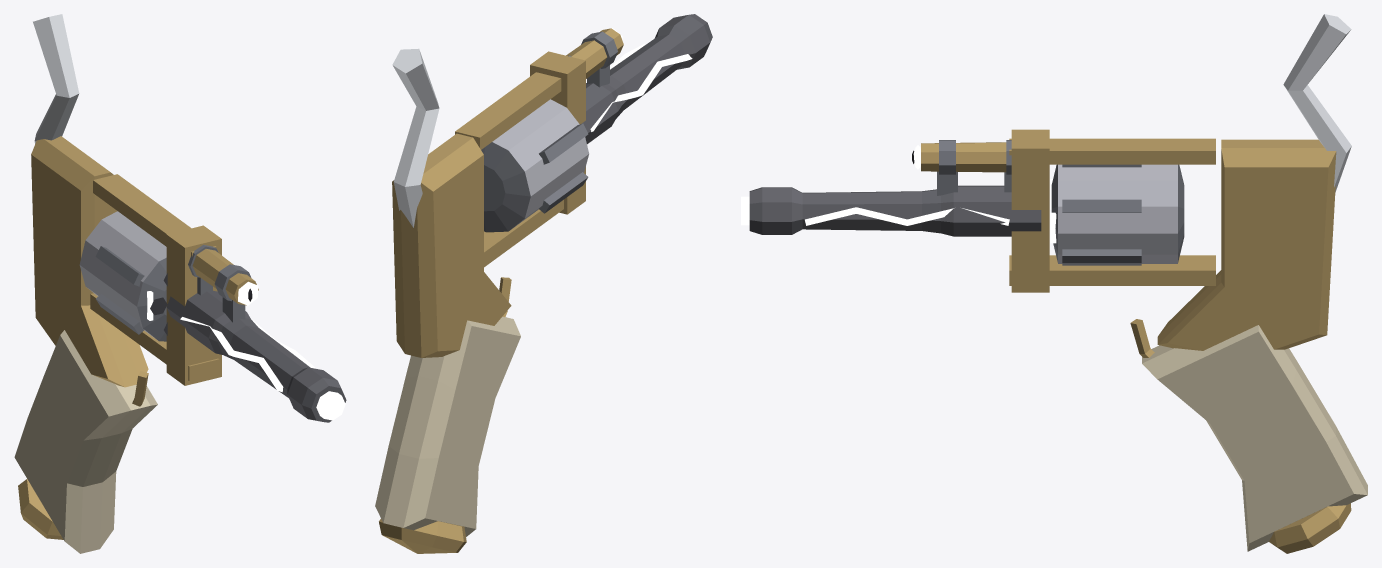
File: gun-fanning-gun.glb
3 renders of one model, left to right at view 1: azimuth 30°, elevation 25°; view 2: azimuth 150°, elevation 25°; view 3: azimuth 270°, elevation 25°, orthographic. The views are drawn at different scales.
Visible parts, largest first — view 1: gun-fanning-gun, pulse_vein; view 2: gun-fanning-gun, pulse_vein; view 3: gun-fanning-gun, pulse_vein.
Part boxes in pixels (x1=…): gun-fanning-gun: x1=14, y1=14, x2=346, y2=553; pulse_vein: x1=180, y1=317, x2=316, y2=392; gun-fanning-gun: x1=375, y1=14, x2=712, y2=553; pulse_vein: x1=590, y1=43, x2=692, y2=131; gun-fanning-gun: x1=741, y1=14, x2=1367, y2=553; pulse_vein: x1=805, y1=191, x2=1009, y2=225.
Size of the model in its own units: 0.103 by 0.5527 by 0.5916.
